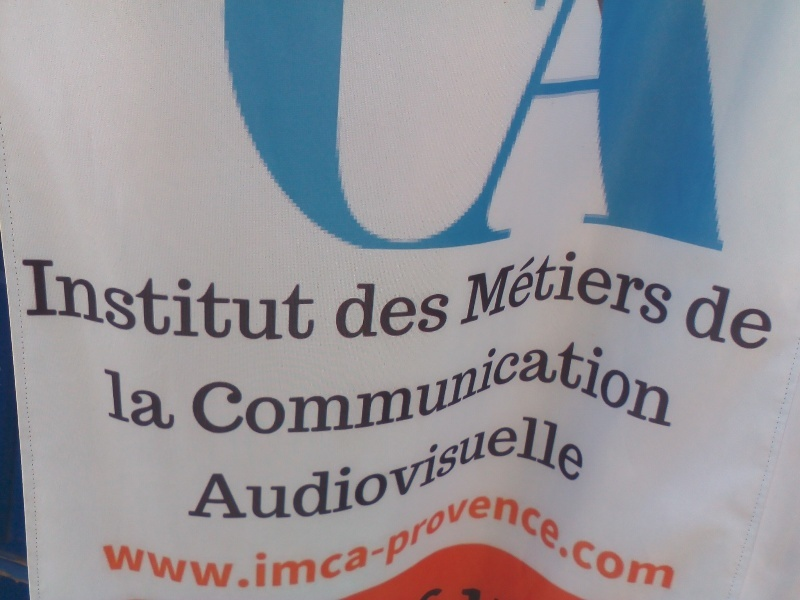text: (225, 2, 240, 261), (241, 2, 256, 261), (257, 2, 272, 261), (273, 2, 288, 261), (289, 2, 304, 261), (305, 2, 320, 261), (321, 2, 336, 261), (337, 2, 352, 261), (353, 2, 368, 261), (369, 2, 384, 261), (385, 2, 400, 261), (401, 2, 416, 261), (417, 2, 432, 261), (433, 2, 448, 261), (449, 2, 464, 261), (465, 2, 480, 261), (481, 2, 496, 261), (497, 2, 512, 261), (513, 2, 528, 261), (529, 2, 544, 261), (545, 2, 560, 261), (561, 2, 576, 261), (577, 2, 592, 261), (593, 2, 608, 261), (609, 2, 624, 261), (625, 2, 640, 261), (641, 2, 656, 261), (657, 2, 672, 261), (673, 2, 688, 261), (689, 2, 704, 261), (705, 2, 720, 261), (721, 2, 729, 261), (209, 404, 224, 527), (225, 404, 240, 527), (241, 404, 256, 527), (257, 404, 272, 527), (273, 404, 288, 527), (289, 404, 304, 527), (305, 404, 320, 527), (321, 404, 336, 527), (337, 404, 352, 527), (353, 404, 368, 527), (369, 404, 384, 527), (385, 404, 400, 527), (401, 404, 416, 527), (417, 404, 432, 527), (433, 404, 448, 527), (449, 404, 464, 527), (465, 404, 480, 527), (481, 404, 496, 527), (497, 404, 512, 527), (513, 404, 528, 527), (529, 404, 544, 527), (545, 404, 560, 527), (561, 404, 576, 527), (577, 404, 592, 527), (593, 404, 608, 527), (113, 479, 128, 599), (129, 479, 144, 599), (145, 479, 160, 599), (161, 479, 176, 599), (177, 479, 192, 599), (193, 479, 208, 599), (209, 479, 224, 599), (225, 479, 240, 599), (241, 479, 256, 599), (257, 479, 272, 599), (273, 479, 288, 599), (289, 479, 304, 599), (305, 479, 320, 599), (321, 479, 336, 599), (337, 479, 352, 599), (353, 479, 368, 599), (369, 479, 384, 599), (385, 479, 400, 599), (401, 479, 416, 599), (417, 479, 432, 599), (433, 479, 448, 599), (449, 479, 464, 599), (465, 479, 480, 599), (481, 479, 496, 599), (497, 479, 512, 599), (513, 479, 528, 599), (529, 479, 544, 599), (545, 479, 560, 599), (561, 479, 576, 599), (577, 479, 592, 599), (593, 479, 608, 599), (609, 479, 624, 599), (625, 479, 640, 599), (641, 479, 656, 599), (657, 479, 672, 599), (673, 479, 688, 599), (673, 334, 689, 436), (218, 2, 224, 261), (209, 334, 224, 436), (225, 334, 240, 436), (241, 334, 256, 436), (257, 334, 272, 436), (273, 334, 288, 436), (289, 334, 304, 436), (305, 334, 320, 436), (321, 334, 336, 436), (337, 334, 352, 436), (353, 334, 368, 436), (369, 334, 384, 436), (385, 334, 400, 436), (401, 334, 416, 436), (417, 334, 432, 436), (433, 334, 448, 436), (449, 334, 464, 436), (465, 334, 480, 436), (481, 334, 496, 436), (497, 334, 512, 436), (513, 334, 528, 436), (529, 334, 544, 436), (545, 334, 560, 436), (561, 334, 576, 436), (577, 334, 592, 436), (593, 334, 608, 436), (609, 334, 624, 436), (625, 334, 640, 436), (641, 334, 656, 436), (657, 334, 672, 436), (196, 404, 208, 527), (33, 257, 48, 345), (49, 257, 64, 345), (65, 257, 80, 345), (81, 257, 96, 345), (97, 257, 112, 345), (113, 257, 128, 345), (129, 257, 144, 345), (145, 257, 160, 345), (161, 257, 176, 345), (177, 257, 192, 345), (193, 257, 208, 345), (209, 257, 224, 345), (225, 257, 240, 345), (241, 257, 256, 345), (257, 257, 272, 345), (273, 257, 288, 345), (289, 257, 304, 345), (305, 257, 320, 345), (196, 334, 208, 436), (465, 247, 480, 327), (481, 247, 496, 327), (497, 247, 512, 327), (513, 247, 528, 327), (529, 247, 544, 327), (545, 247, 560, 327), (561, 247, 576, 327), (577, 247, 592, 327), (593, 247, 608, 327), (609, 247, 624, 327), (625, 247, 640, 327), (641, 247, 656, 327), (657, 247, 672, 327), (113, 361, 128, 440), (129, 361, 144, 440), (145, 361, 160, 440), (161, 361, 176, 440), (19, 257, 32, 345), (705, 279, 720, 354), (721, 279, 736, 354), (737, 279, 752, 354), (753, 279, 768, 354), (769, 279, 784, 354), (337, 279, 352, 348), (353, 279, 368, 348), (369, 279, 384, 348), (385, 279, 400, 348), (401, 279, 416, 348), (417, 279, 432, 348), (433, 279, 448, 348), (101, 361, 112, 440), (693, 279, 704, 354), (106, 479, 112, 599), (449, 279, 458, 348), (673, 247, 679, 327), (609, 404, 611, 527), (177, 361, 180, 440), (333, 279, 336, 348), (463, 247, 464, 327), (785, 279, 786, 354)
